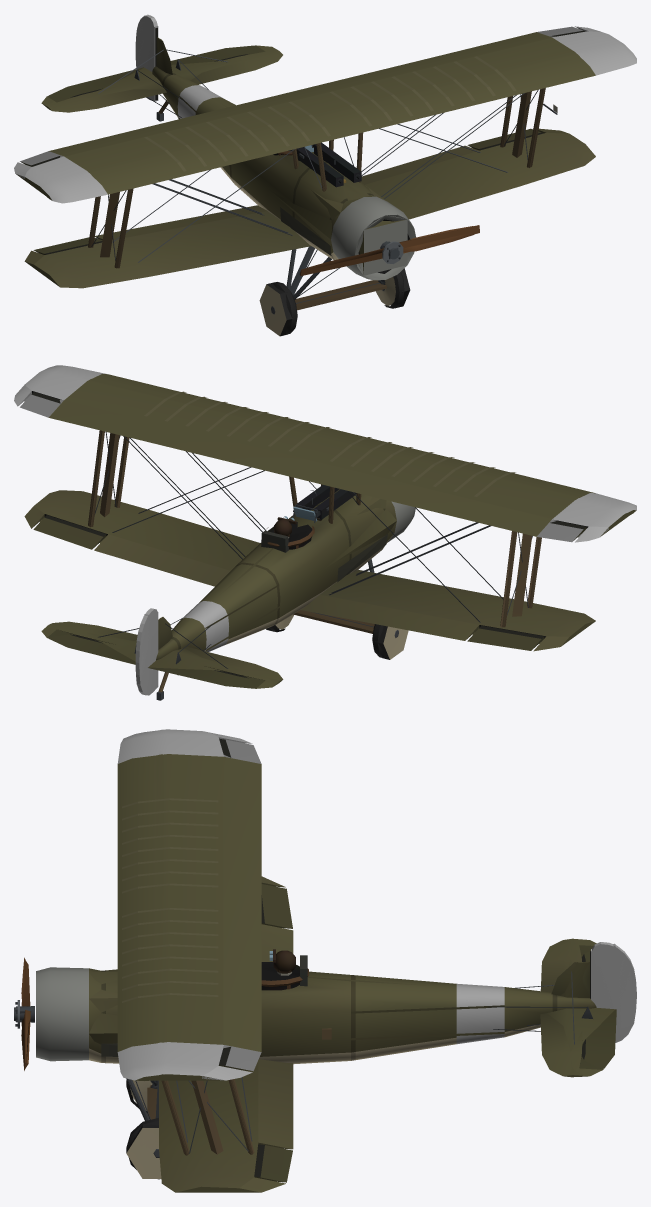
Rendered from plane_ww1_biplane.glb.
The picture shows the model from 3 angles, top to bottom: view 1: azimuth 30°, elevation 25°; view 2: azimuth 150°, elevation 25°; view 3: azimuth 270°, elevation 25°; orthographic projection. The views are drawn at different scales.
Parts seen in each view (by area): view 1: plane_ww1_biplane_LOD0_mesh, plane_ww1_biplane_LOD1_mesh, plane_ww1_biplane_LOD2_mesh, plane_ww1_biplane_LOD0_prop_mesh, plane_ww1_biplane_LOD2_prop_mesh; view 2: plane_ww1_biplane_LOD0_mesh, plane_ww1_biplane_LOD1_mesh, plane_ww1_biplane_LOD2_mesh; view 3: plane_ww1_biplane_LOD0_mesh, plane_ww1_biplane_LOD1_mesh, plane_ww1_biplane_LOD2_mesh.
Part boxes in pixels (x1,y1,x2,y2): plane_ww1_biplane_LOD0_mesh: [14, 15, 636, 334]; plane_ww1_biplane_LOD1_mesh: [19, 14, 626, 336]; plane_ww1_biplane_LOD2_mesh: [16, 25, 531, 335]; plane_ww1_biplane_LOD0_prop_mesh: [300, 226, 474, 272]; plane_ww1_biplane_LOD2_prop_mesh: [299, 225, 479, 275]; plane_ww1_biplane_LOD0_mesh: [14, 365, 636, 700]; plane_ww1_biplane_LOD1_mesh: [24, 370, 636, 694]; plane_ww1_biplane_LOD2_mesh: [42, 433, 628, 686]; plane_ww1_biplane_LOD0_mesh: [36, 729, 636, 1192]; plane_ww1_biplane_LOD1_mesh: [89, 729, 633, 1191]; plane_ww1_biplane_LOD2_mesh: [137, 938, 633, 1192].
Size of the model in its own units: 8.5 by 2.87 by 6.49.
